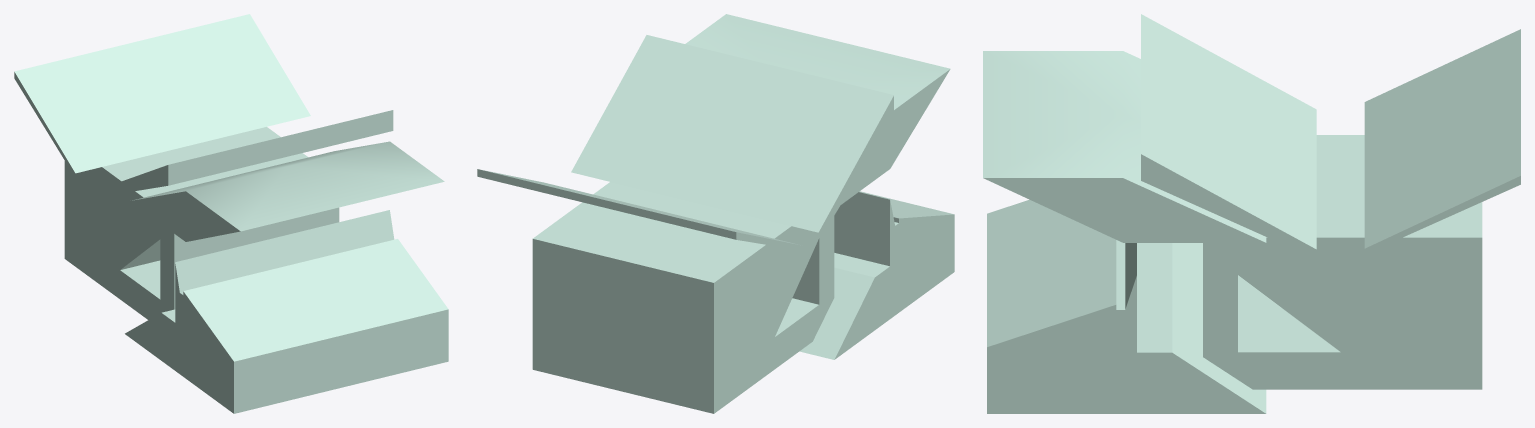
3 renders of one model, left to right at view 1: azimuth 30°, elevation 25°; view 2: azimuth 150°, elevation 25°; view 3: azimuth 270°, elevation 25°, orthographic. The views are drawn at different scales.
Parts seen in each view (by area): view 1: Renderer Node; view 2: Renderer Node; view 3: Renderer Node.
Part boxes in pixels (x1,y1,x2,y2): Renderer Node: (14,14,448,413); Renderer Node: (477,14,954,413); Renderer Node: (983,14,1520,413).
Bounding box in the file's own units: 1.41 × 1.18 × 2.18.
